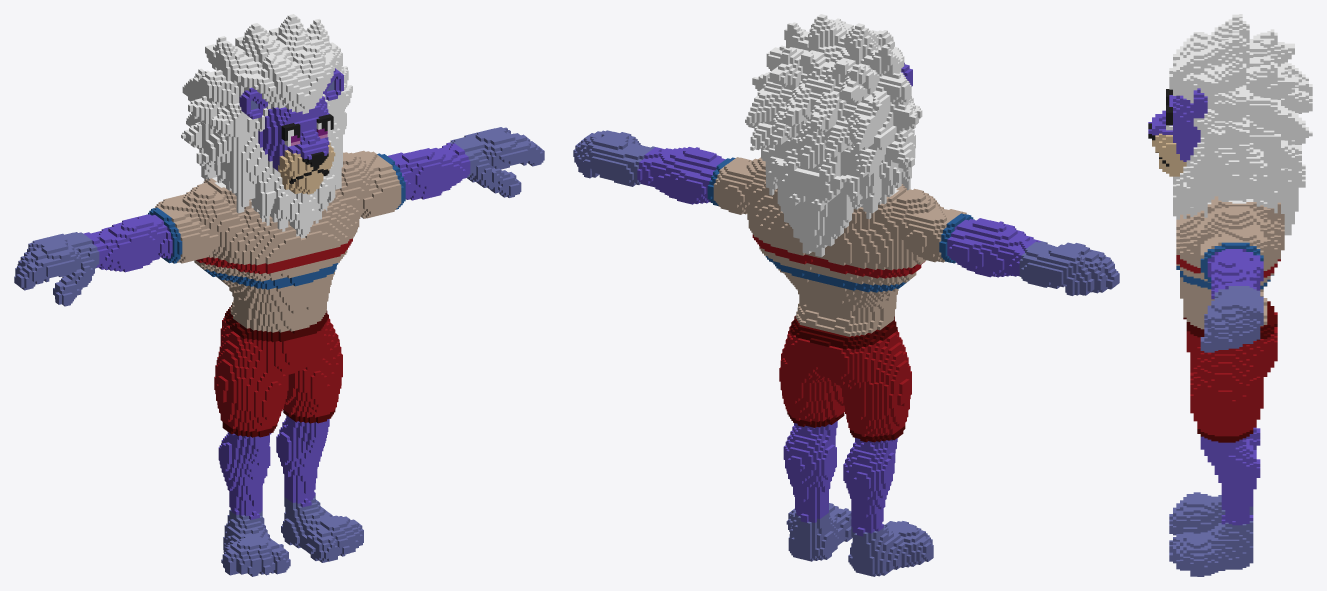
The model's file is 887-CgWU2Win.fbx.
The picture shows the model from 3 angles, left to right: view 1: azimuth 30°, elevation 25°; view 2: azimuth 150°, elevation 25°; view 3: azimuth 270°, elevation 25°; orthographic projection. The views are drawn at different scales.
Visible parts, largest first — view 1: sad; view 2: sad; view 3: sad.
Boxes of the visible parts, left/top/right/bottom form: sad: left=14, top=14, right=544, bottom=576; sad: left=573, top=14, right=1119, bottom=576; sad: left=1148, top=14, right=1312, bottom=576.
Size of the model in its own units: 17.2 by 16.5 by 4.7.
Materials: 5 (5 with a texture image).
